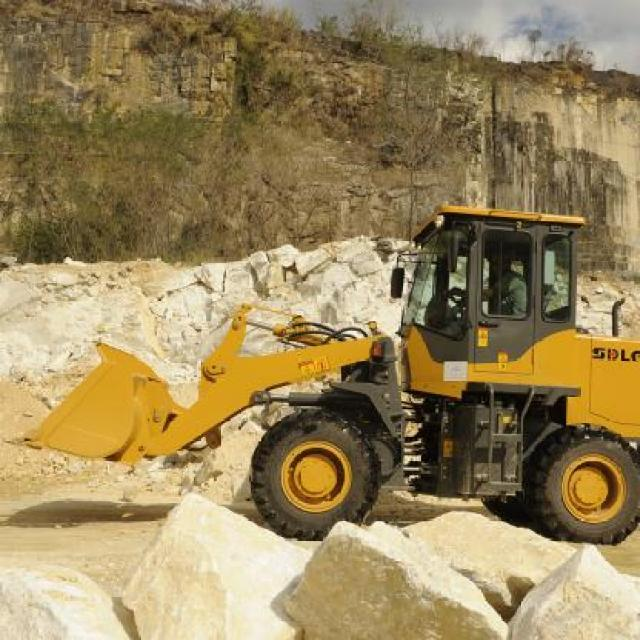buldozerpayloadergrader: (4, 166, 640, 548)
